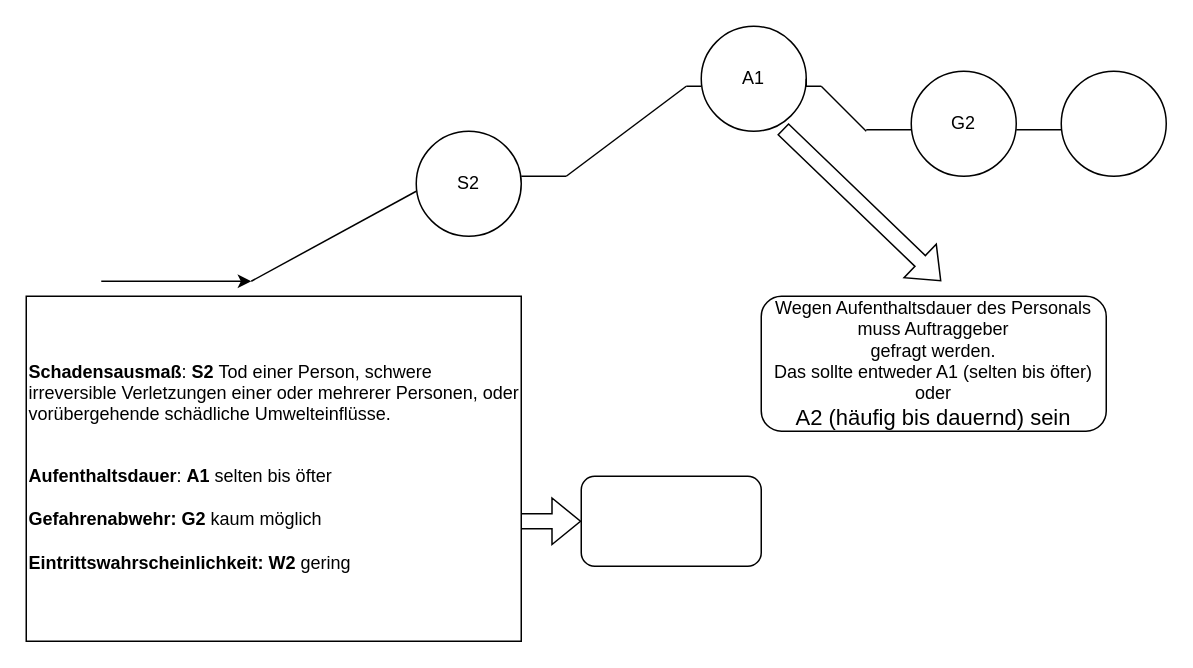
The diagram is 1193 pixels wide and 668 high, and some of its shapes have lost their labels. Each missing label, with the centre of its shape:
"Das ergibt SIL1" belongs at [670,520].
"W2" belongs at [1113,123].
